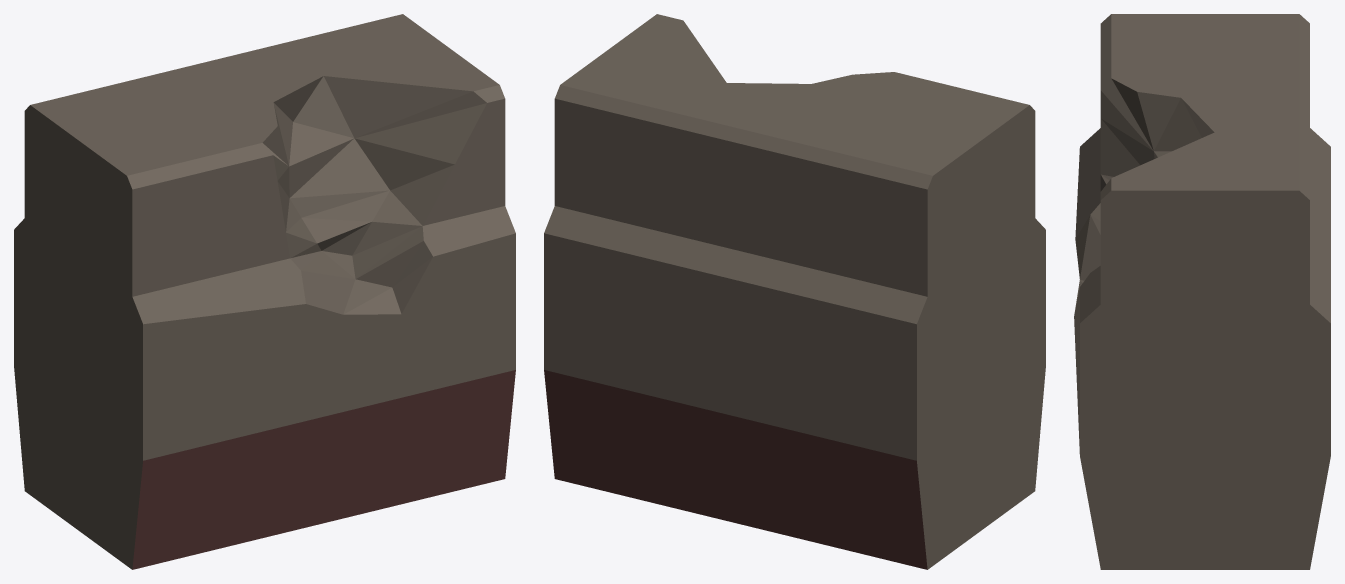
Rendered from steampunk_wall_stone_broken.fbx.
3 views of the same model, side by side, from view 1: azimuth 30°, elevation 25°; view 2: azimuth 150°, elevation 25°; view 3: azimuth 270°, elevation 25° (orthographic). The views are drawn at different scales.
Parts seen in each view (by area): view 1: Cube.033; view 2: Cube.033; view 3: Cube.033.
Boxes of the visible parts, x1,y1,x2,y2 form: Cube.033: (14, 14, 515, 569); Cube.033: (544, 14, 1045, 569); Cube.033: (1074, 14, 1330, 569).
Bounding box in the file's own units: 3 × 3.02 × 1.84.
